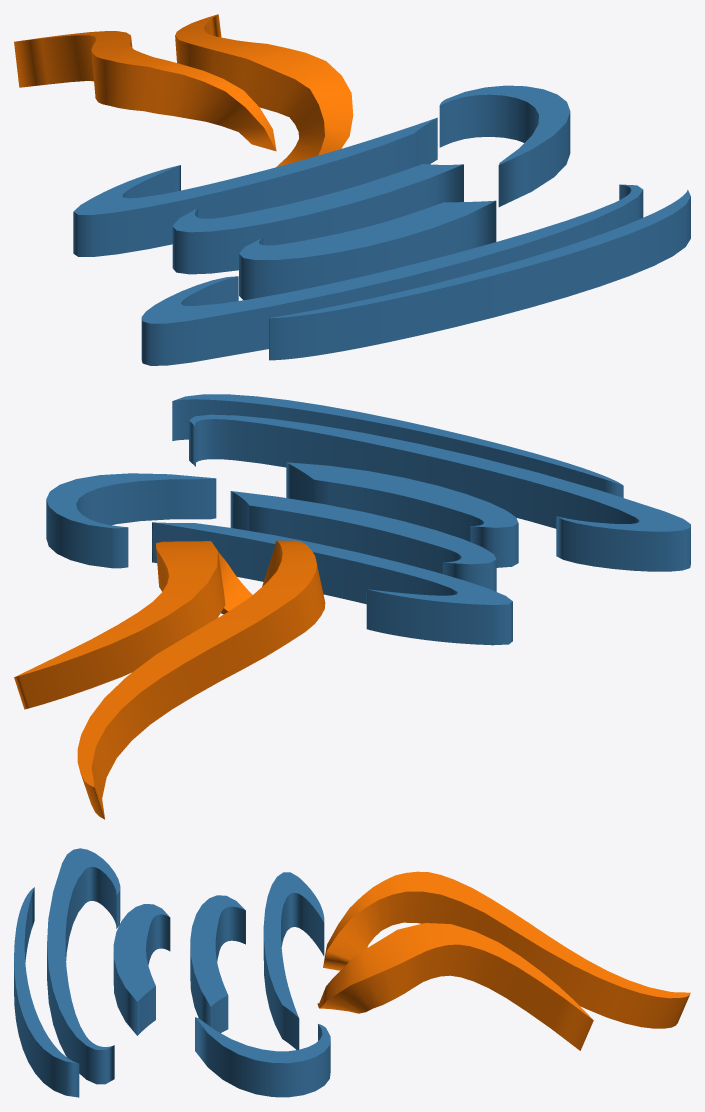
Rendered from Java.glb.
3 views of the same model, one above another, from view 1: azimuth 30°, elevation 25°; view 2: azimuth 150°, elevation 25°; view 3: azimuth 270°, elevation 25° (orthographic). The views are drawn at different scales.
Parts seen in each view (by area): view 1: Curve, Curve.002; view 2: Curve, Curve.002; view 3: Curve, Curve.002.
Boxes of the visible parts, x1,y1,x2,y2 form: Curve: (73,85,690,365); Curve.002: (14,14,353,167); Curve: (46,394,690,645); Curve.002: (14,540,325,819); Curve: (14,848,330,1097); Curve.002: (317,871,690,1050).
Bounding box in the file's own units: 1.35 × 0.3801 × 1.8.
